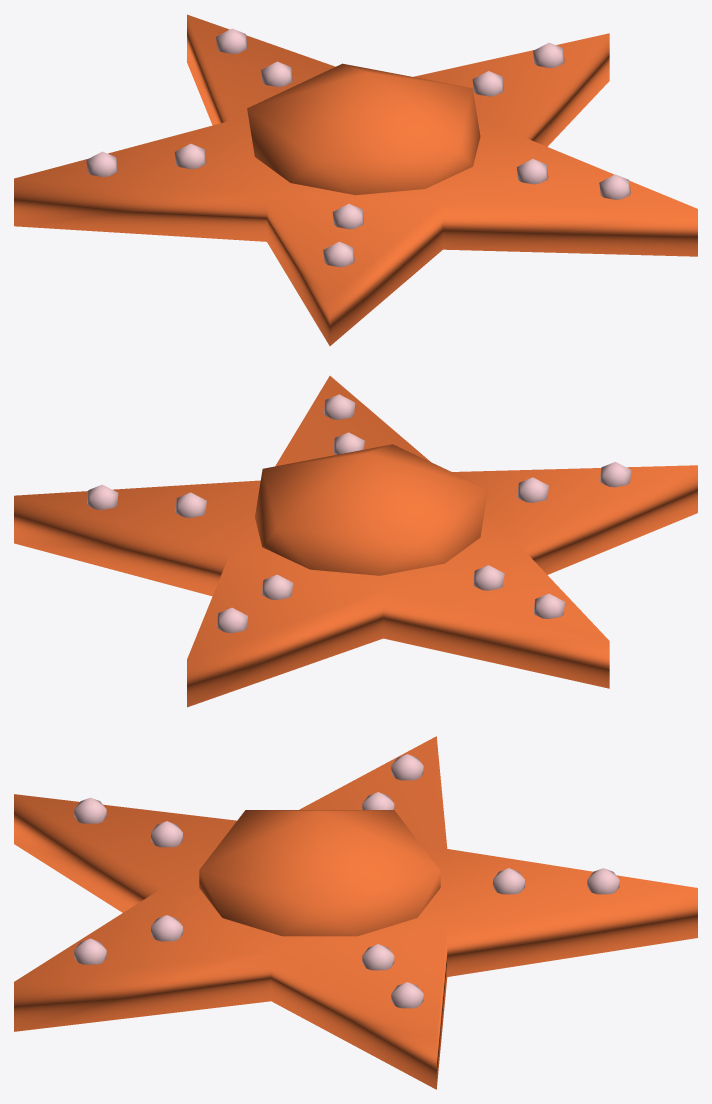
Rendered from starfish.glb.
The picture shows the model from 3 angles, top to bottom: view 1: azimuth 30°, elevation 25°; view 2: azimuth 150°, elevation 25°; view 3: azimuth 270°, elevation 25°; orthographic projection. The views are drawn at different scales.
Visible parts, largest first — view 1: starfish; view 2: starfish; view 3: starfish.
Part boxes in pixels (x1,y1,x2,y2): starfish: (14, 14, 697, 345); starfish: (14, 376, 697, 707); starfish: (14, 736, 697, 1089).
Bounding box in the file's own units: 1.14 × 0.27 × 1.09.
